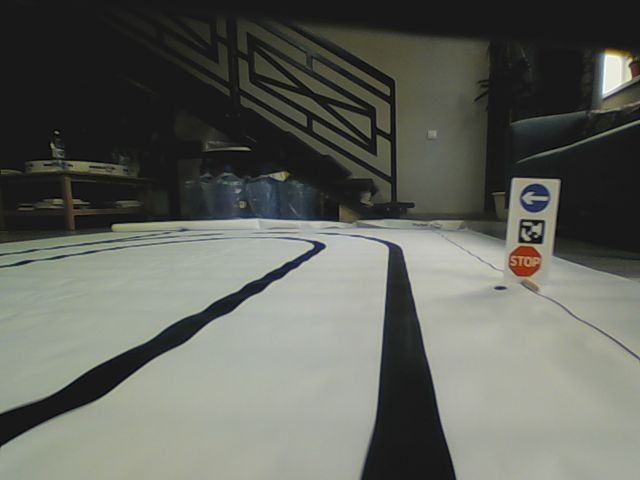Stop: (507, 245, 541, 278)
